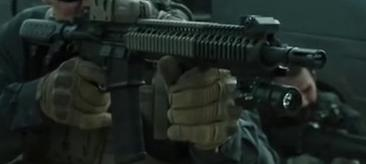gun: (1, 0, 366, 164)
